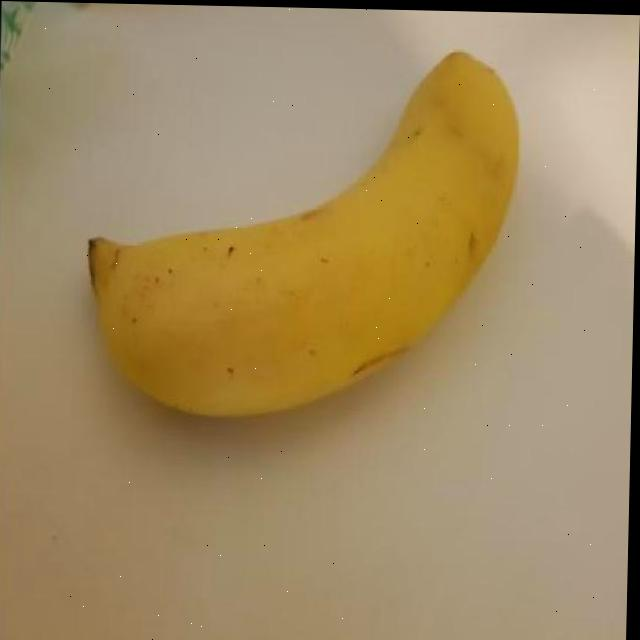banana: (78, 31, 527, 435)
